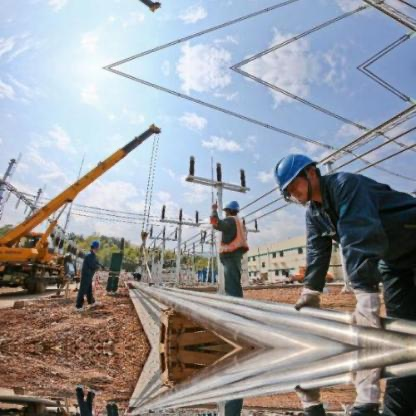Safety Helmet: (270, 150, 333, 211), (219, 198, 247, 221), (87, 235, 110, 255)
